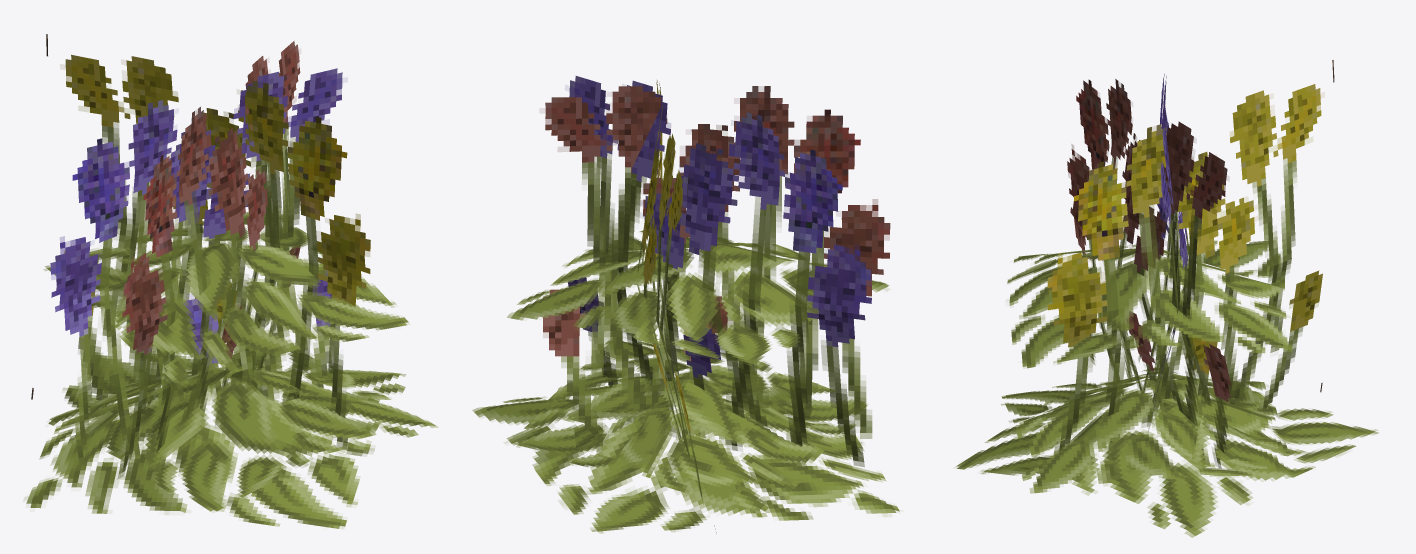
Rendered from flower_mixed.glb.
3 renders of one model, left to right at view 1: azimuth 30°, elevation 25°; view 2: azimuth 150°, elevation 25°; view 3: azimuth 270°, elevation 25°, orthographic. The views are drawn at different scales.
Parts seen in each view (by area): view 1: flower_mixed; view 2: flower_mixed; view 3: flower_mixed.
Boxes of the visible parts, box(x1,y1,x2,y2) form: flower_mixed: box(23, 34, 438, 528); flower_mixed: box(472, 76, 899, 533); flower_mixed: box(955, 60, 1378, 537).
Size of the model in its own units: 0.7077 by 0.617 by 0.7099.
1 material, 1 textured.
